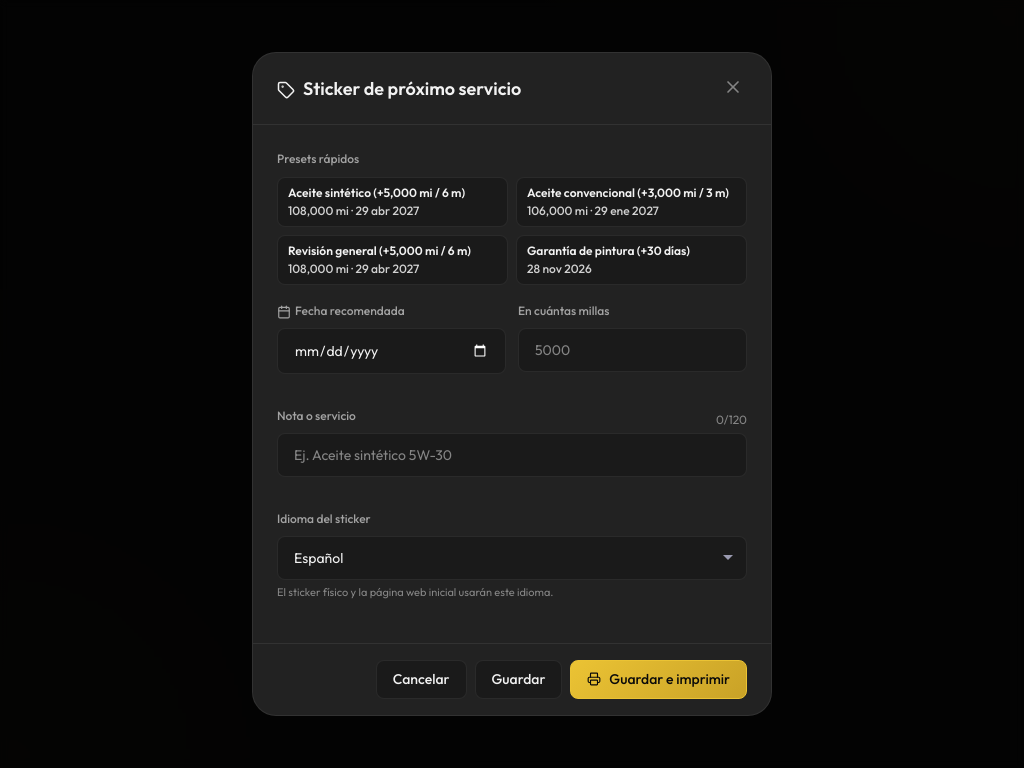
ServiceStickerModal (E6) › con incremento menor que 1 o mayor que 100000 muestra error de validación
In the number field labelled "En cuántas millas": [632, 350] box [518,328,747,372], type "0"
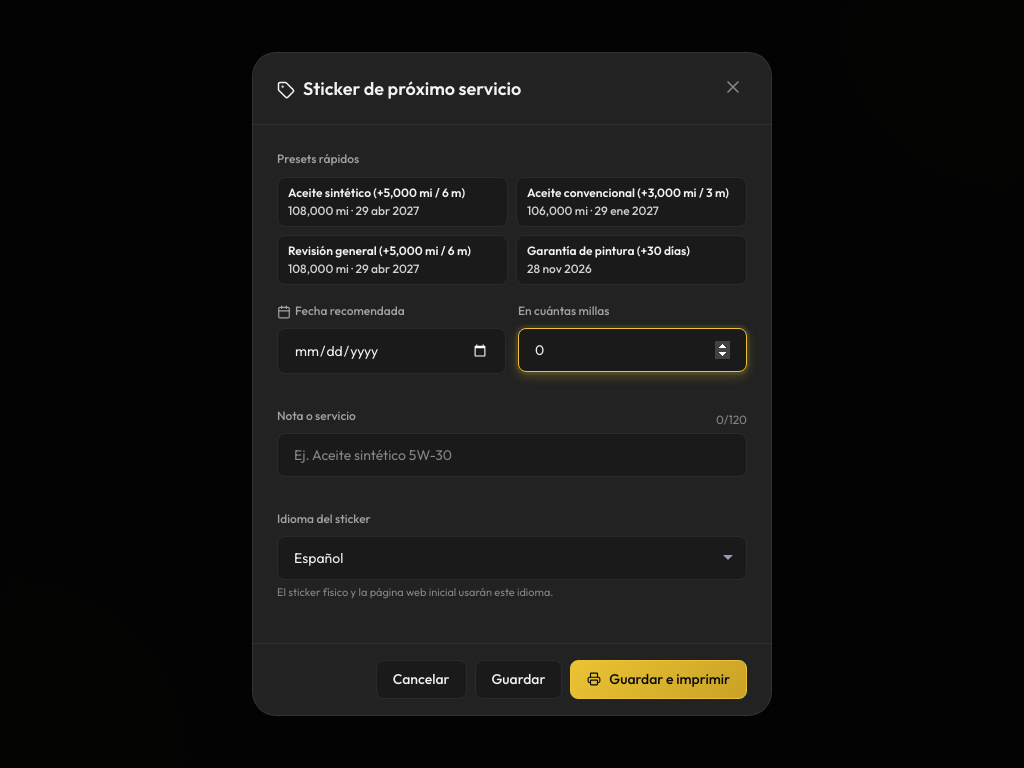
Click the button "Guardar": [518, 679] box [474,660,562,699]
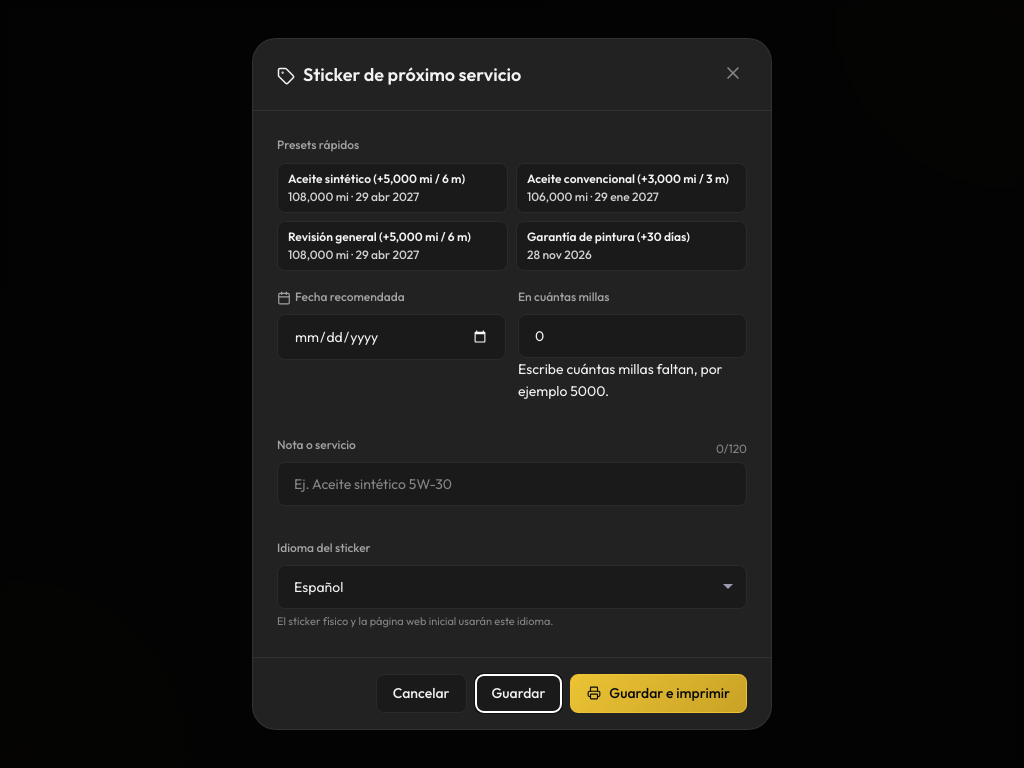
Expected: the text "Escribe cuántas millas faltan, por ejemplo 5000." is shown, [518,360,722,400]
